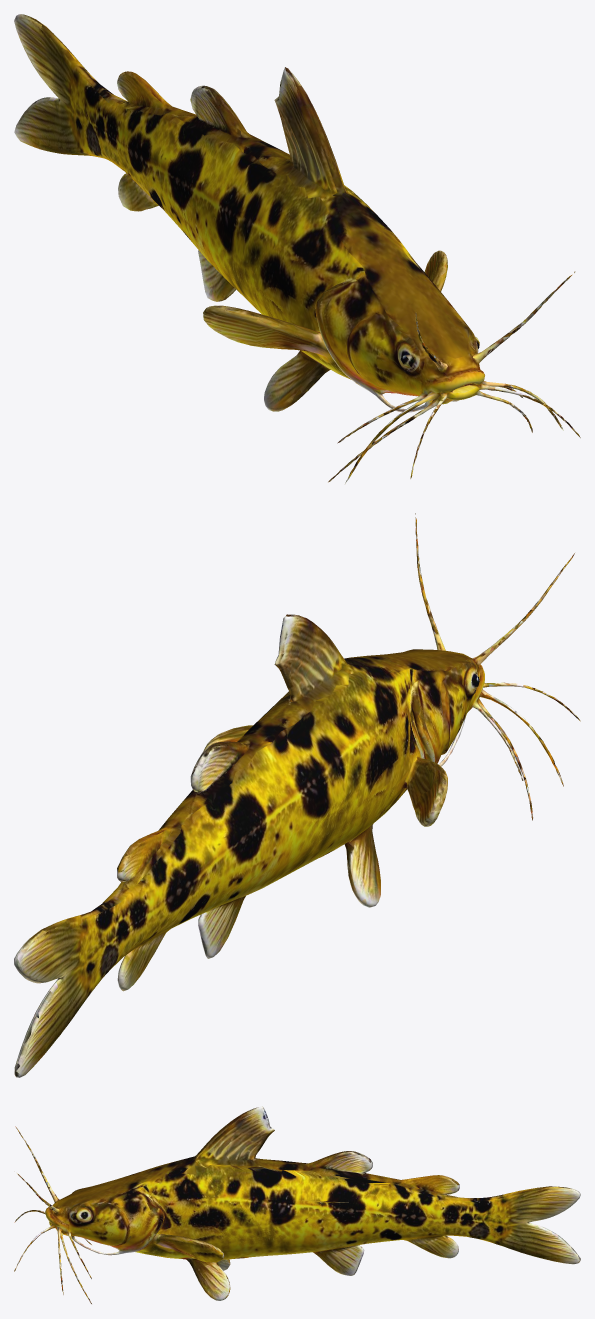
Rendered from catfish.glb.
3 views of the same model, one above another, from view 1: azimuth 30°, elevation 25°; view 2: azimuth 150°, elevation 25°; view 3: azimuth 270°, elevation 25° (orthographic). The views are drawn at different scales.
Parts seen in each view (by area): view 1: catfish; view 2: catfish; view 3: catfish.
Boxes of the visible parts, x1=… form: catfish: x1=14, y1=14, x2=580, y2=483; catfish: x1=14, y1=513, x2=580, y2=1077; catfish: x1=14, y1=1106, x2=580, y2=1303.
Size of the model in its own units: 0.285 by 0.3491 by 1.
1 material, 1 textured.
